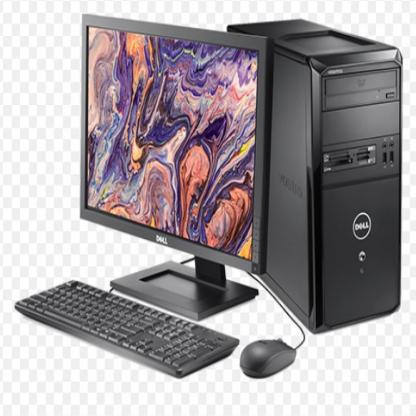DESKTOP: (11, 6, 410, 398)
